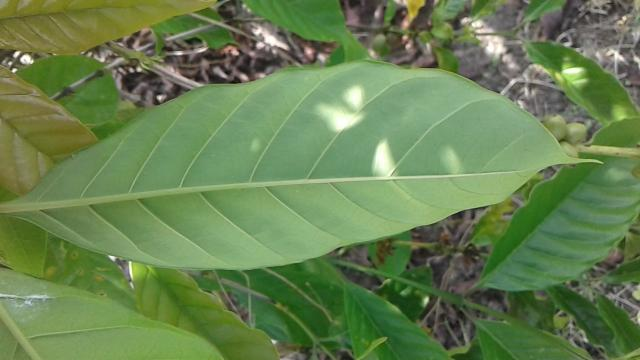healthy: (9, 54, 614, 275)
